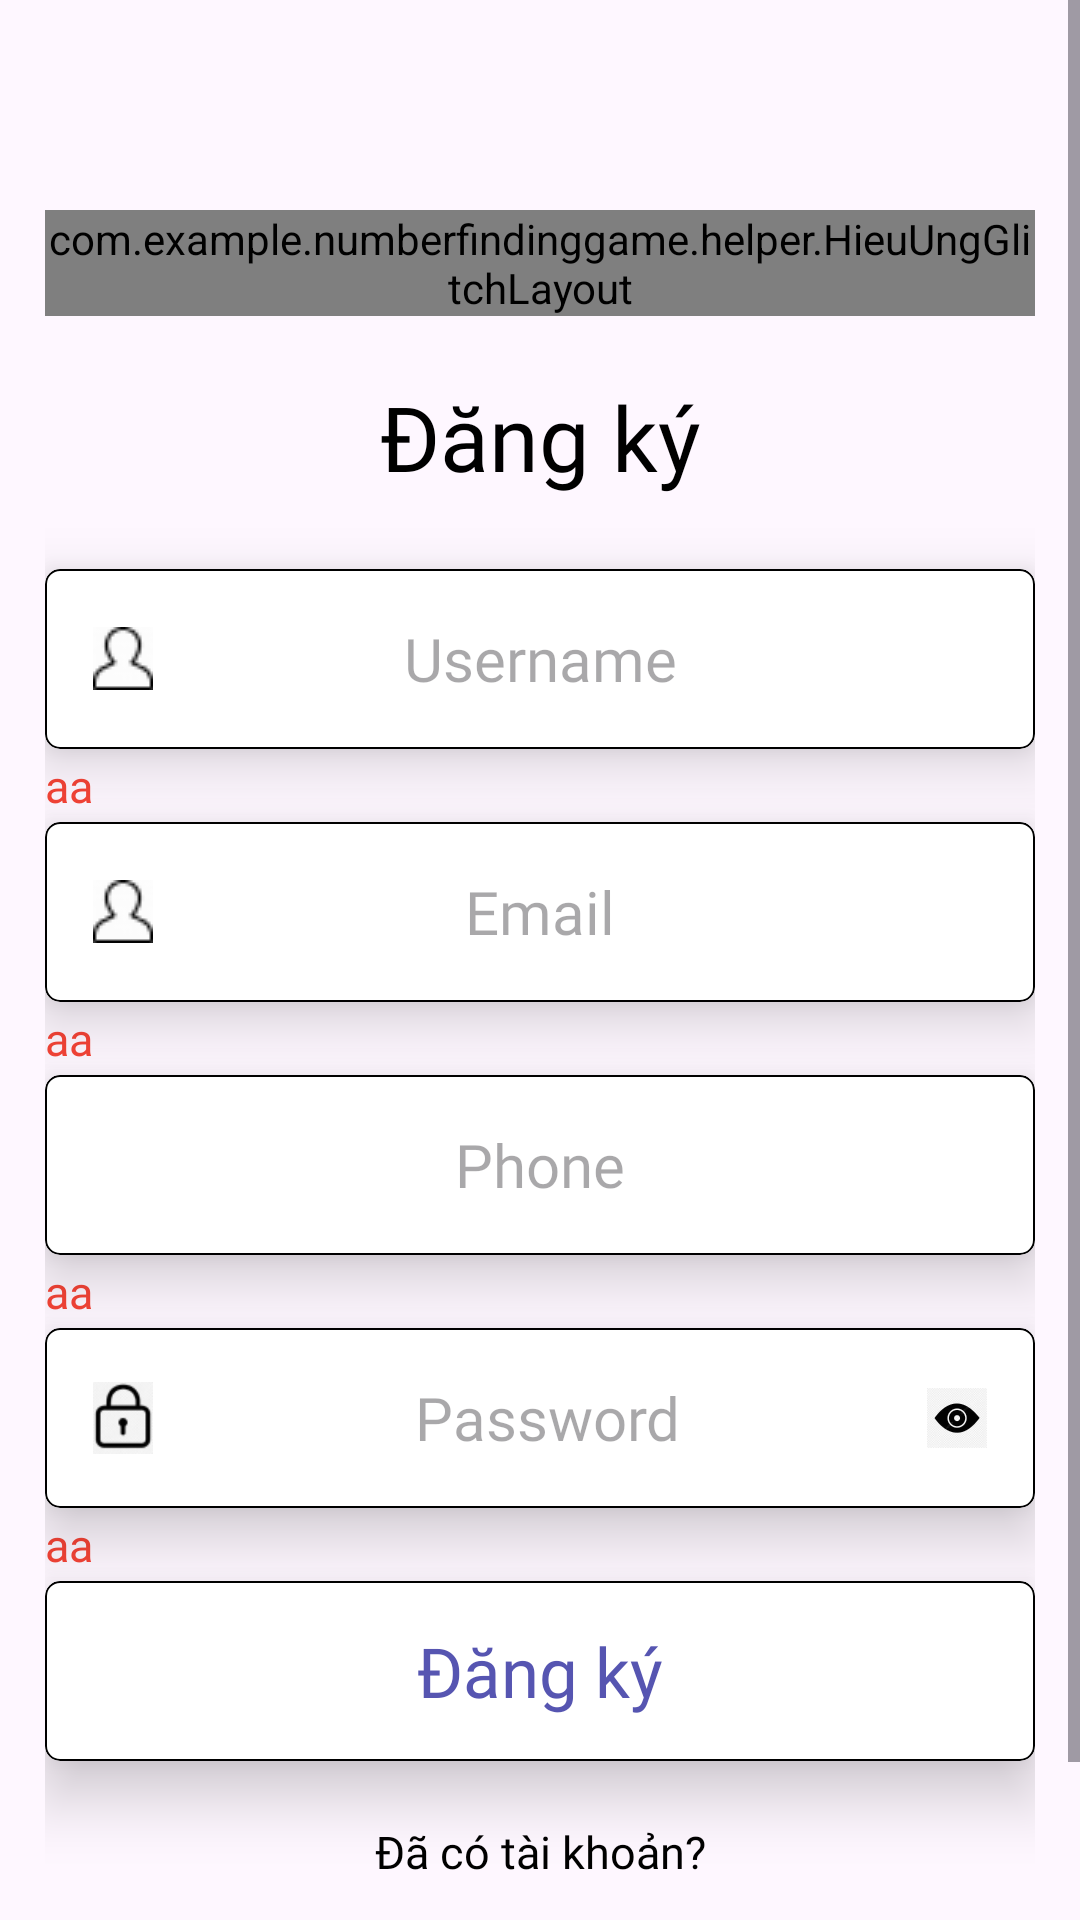

Named icons in this screenshot (1080px×1920px) and their bounding boxes, (x1, y1, x2, y2):
mat: (934, 1403, 980, 1433)
